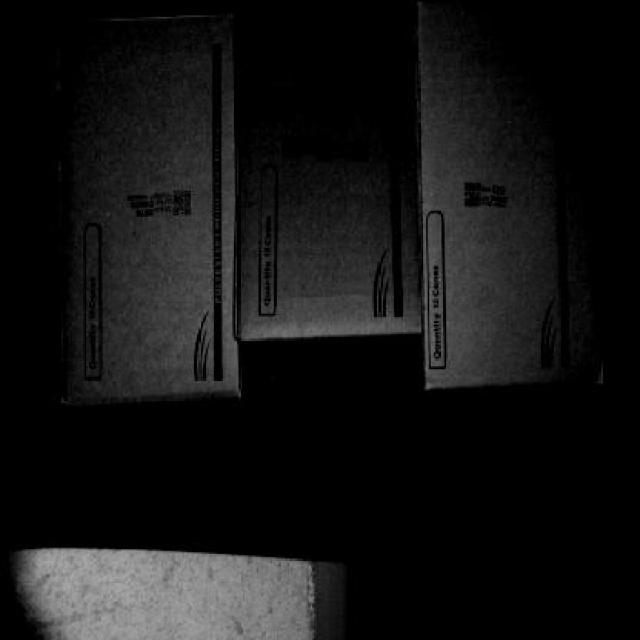cardboxes: (430, 16, 621, 390), (61, 14, 239, 401), (245, 20, 420, 337)
